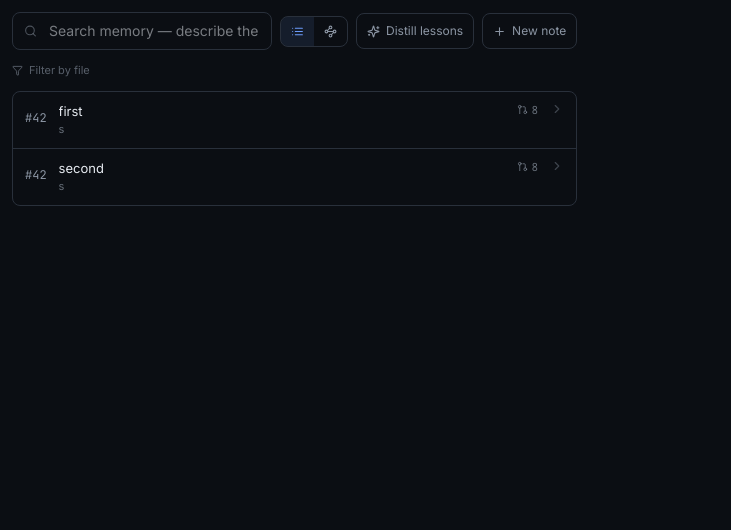
MemoryBrowser — list ⇄ graph toggle › swaps the list for the graph and back
Expected: the text "first" is shown, [59,102,83,118]
Click the button named "Graph view" at (330, 31), box [314,16,347,46]
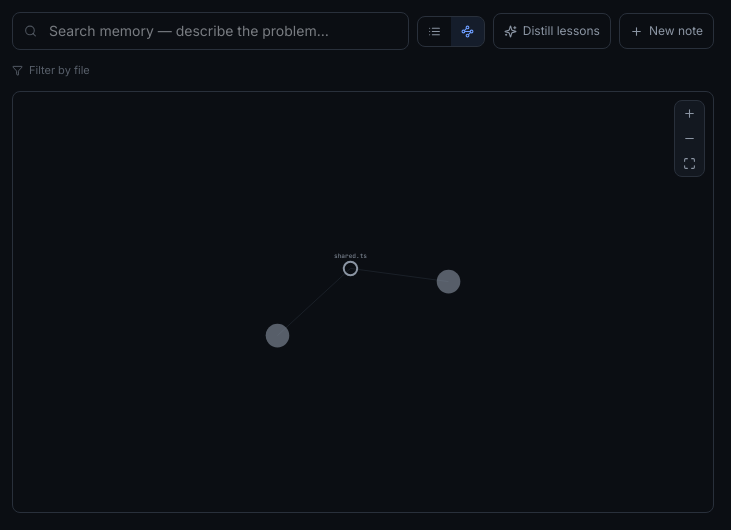
Expected: the field labelled "src/shared.ts" is shown, [334,252,367,260]
Expected: the picture "shared.ts" is shown
Expected: the list with class "divide-y" is gone
Click the button named "List view" at (434, 31), box [418,16,451,46]
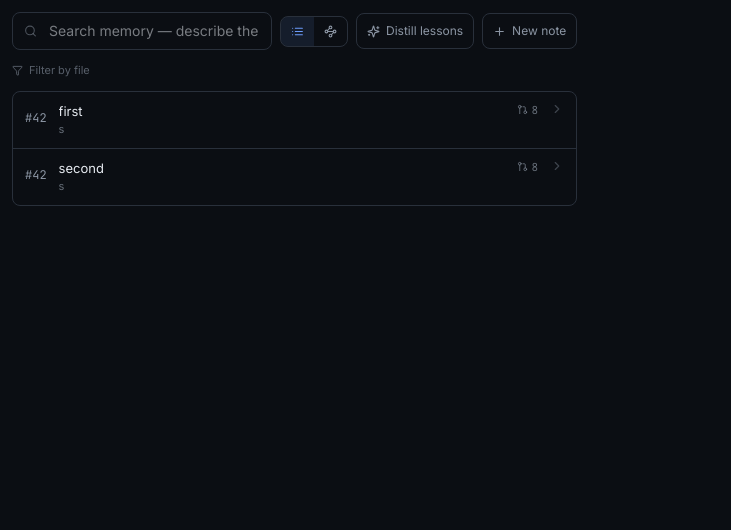
Expected: the picture is gone
Expected: the text "first" is shown, [59,102,83,118]
